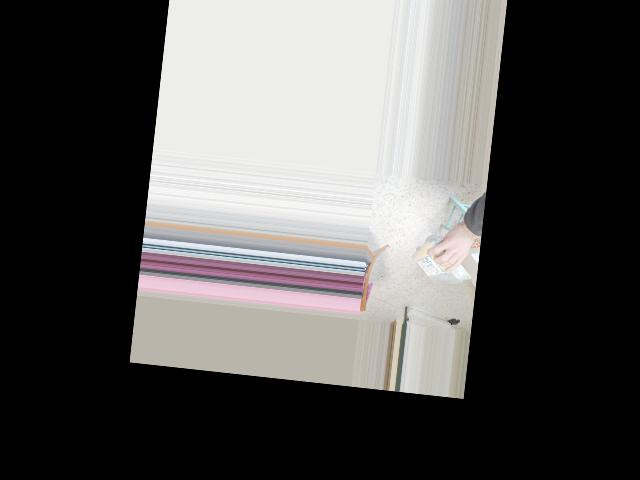cheese: (412, 244, 475, 283)
